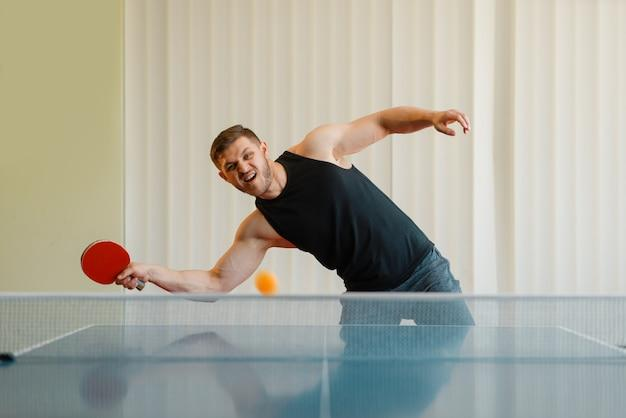ball_pingpong: (255, 271, 278, 296)
